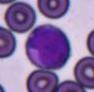M: (25, 24, 71, 70)
